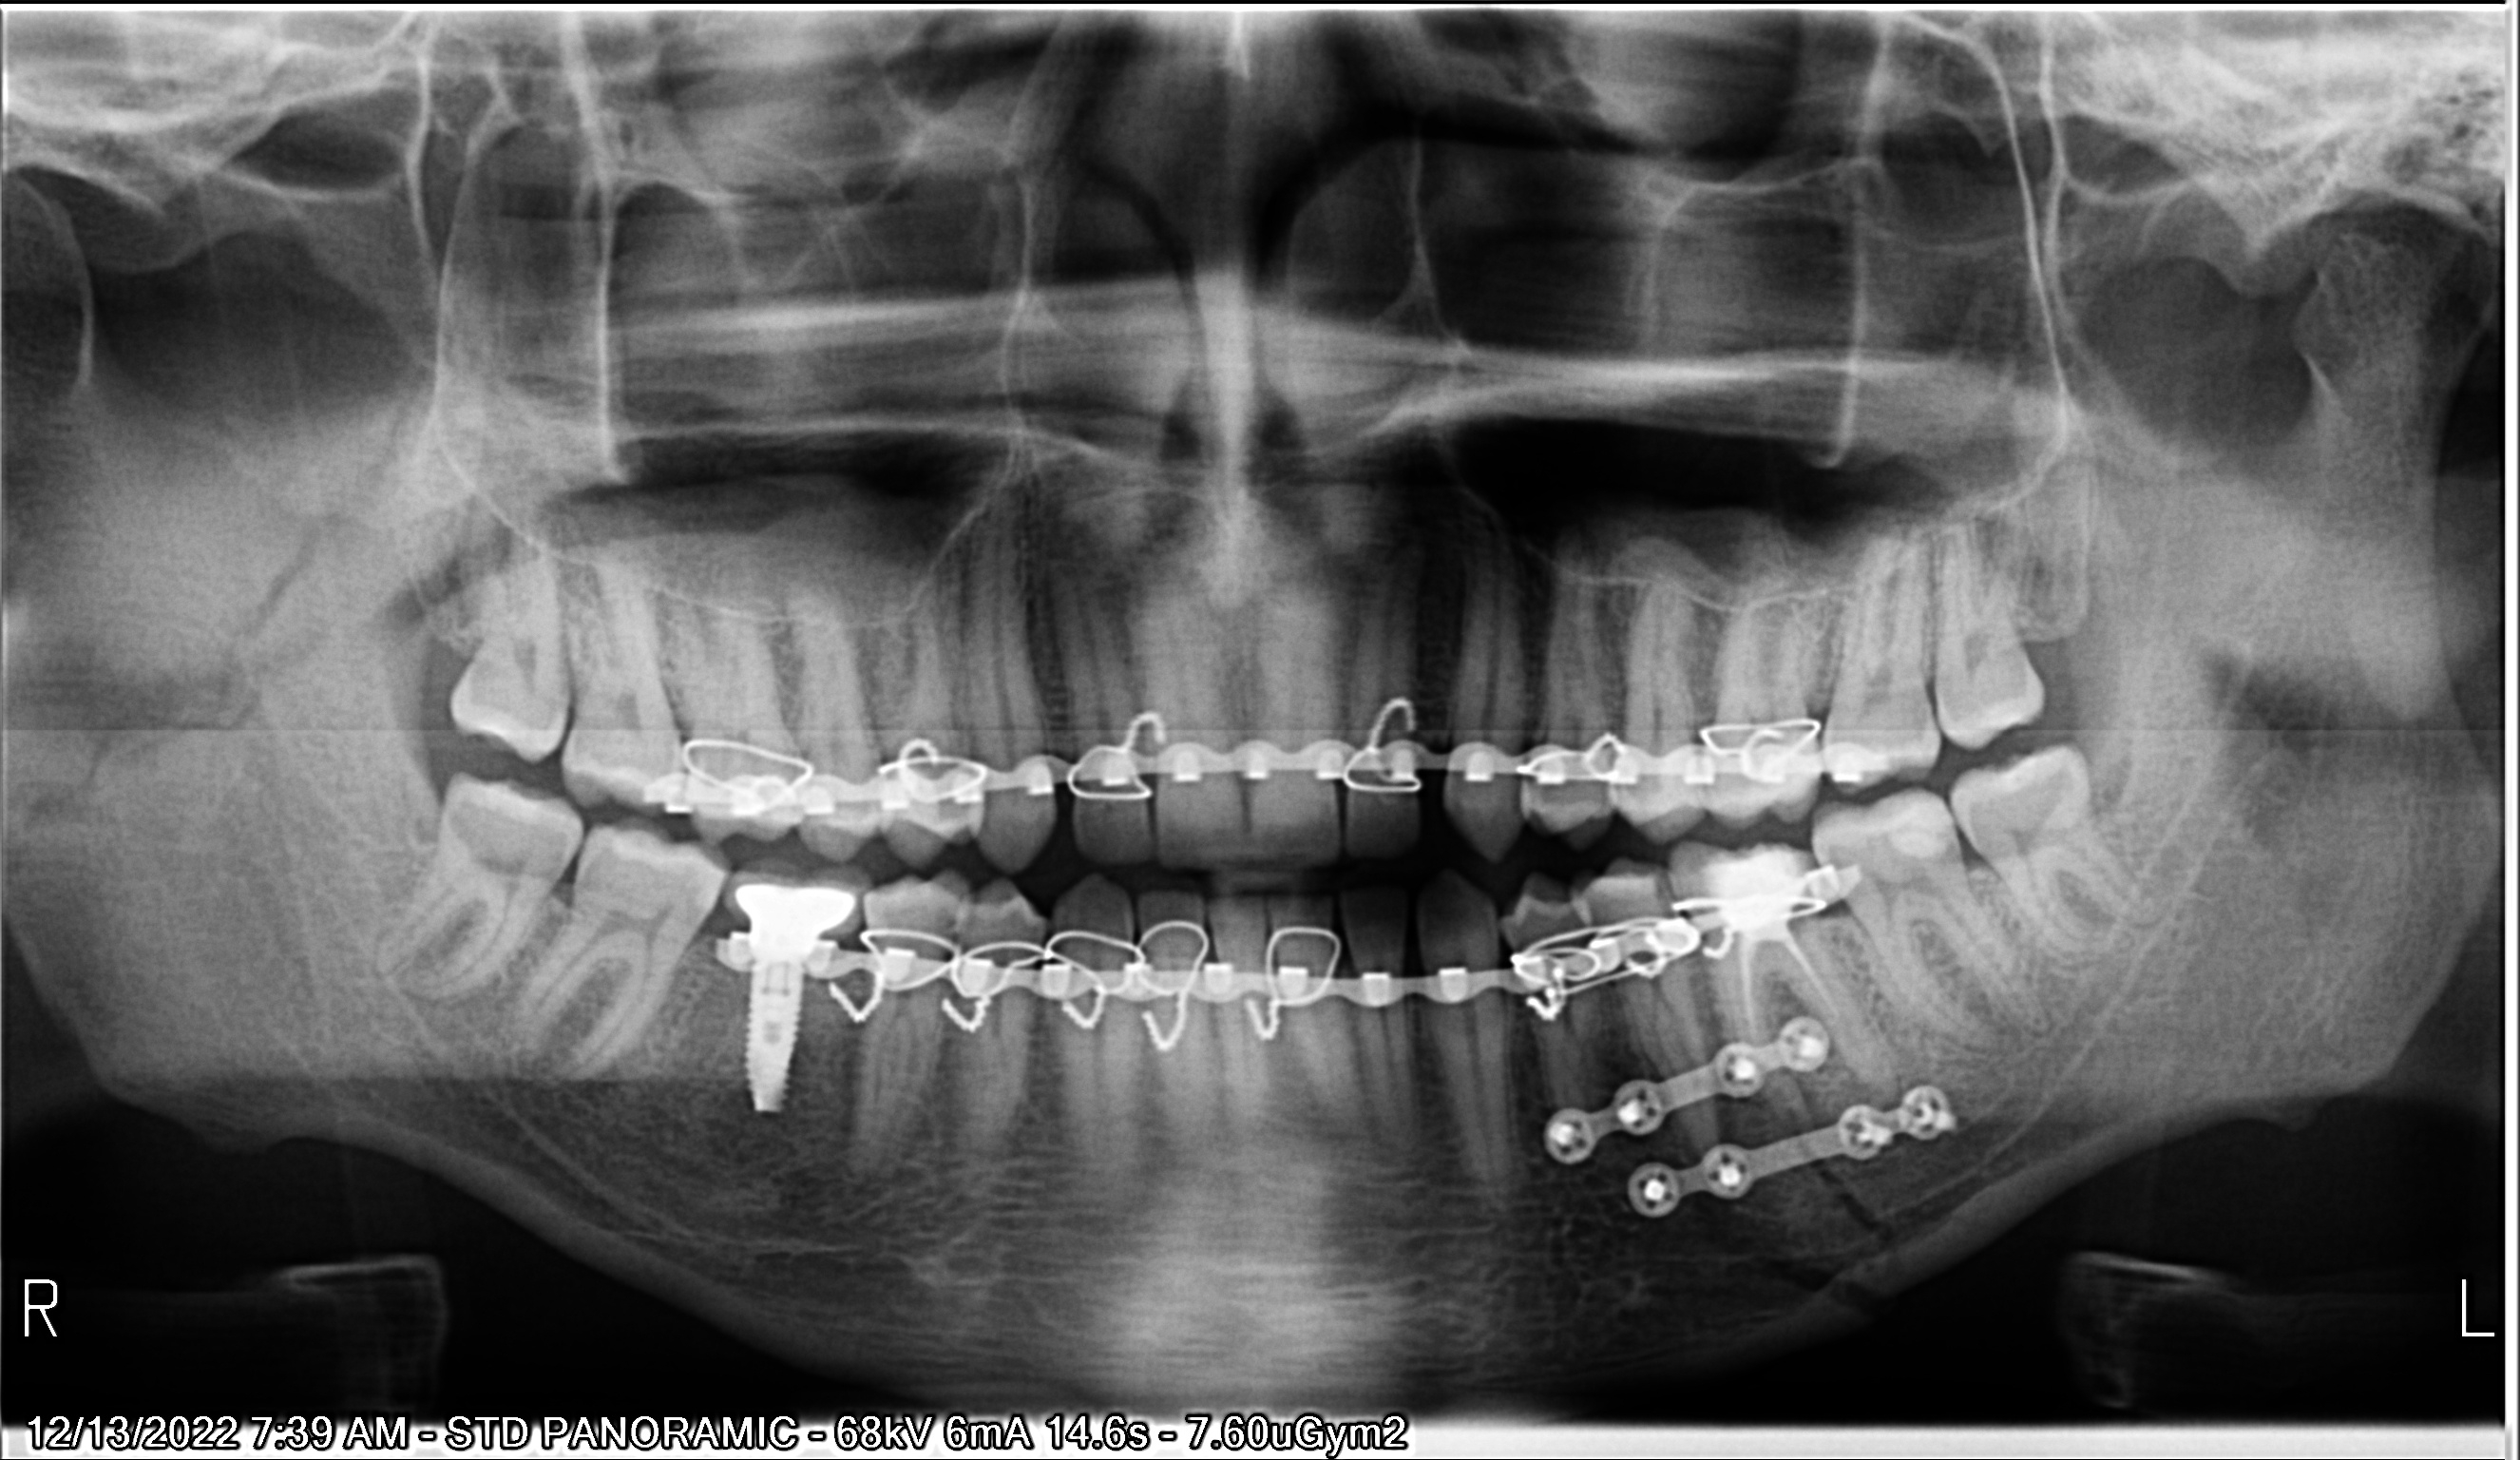END: (1688, 932, 1898, 1097)
IMP: (696, 940, 825, 1147), (1870, 800, 1980, 874)
OBT: (1711, 819, 1818, 939)
ORD: (707, 801, 1886, 1038), (651, 678, 1968, 841)
PRR: (714, 853, 874, 963)
SRD: (1591, 1067, 2023, 1255), (1504, 996, 1872, 1203)
